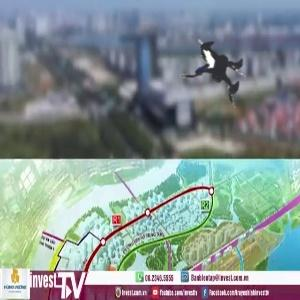drone: (158, 1, 291, 134)
